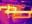Hotspot: (5, 7, 31, 18), (0, 6, 10, 10)
